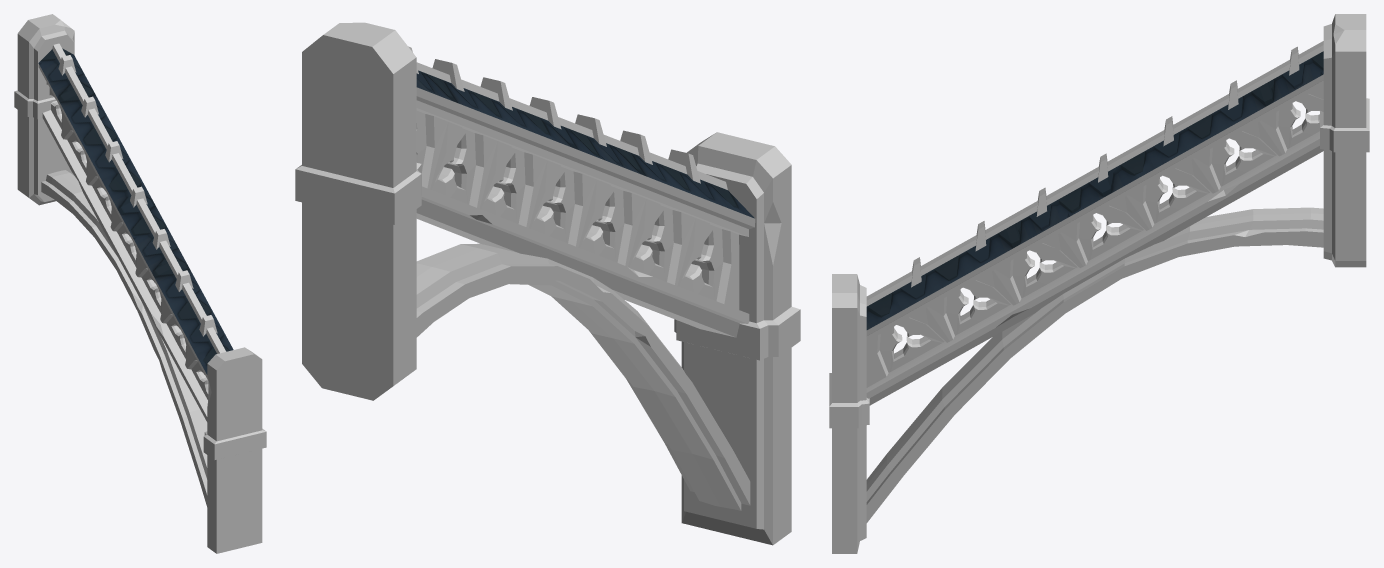
File: SM_Bld_Buttress_01.fbx
The picture shows the model from 3 angles, left to right: view 1: azimuth 30°, elevation 25°; view 2: azimuth 150°, elevation 25°; view 3: azimuth 270°, elevation 25°; orthographic projection. The views are drawn at different scales.
Parts seen in each view (by area): view 1: SM_Bld_Buttress_01; view 2: SM_Bld_Buttress_01; view 3: SM_Bld_Buttress_01.
Part boxes in pixels (x1,y1,x2,y2): SM_Bld_Buttress_01: (14,14,266,553); SM_Bld_Buttress_01: (295,22,800,545); SM_Bld_Buttress_01: (829,14,1369,553).
Bounding box in the file's own units: 80.29 × 567 × 537.
